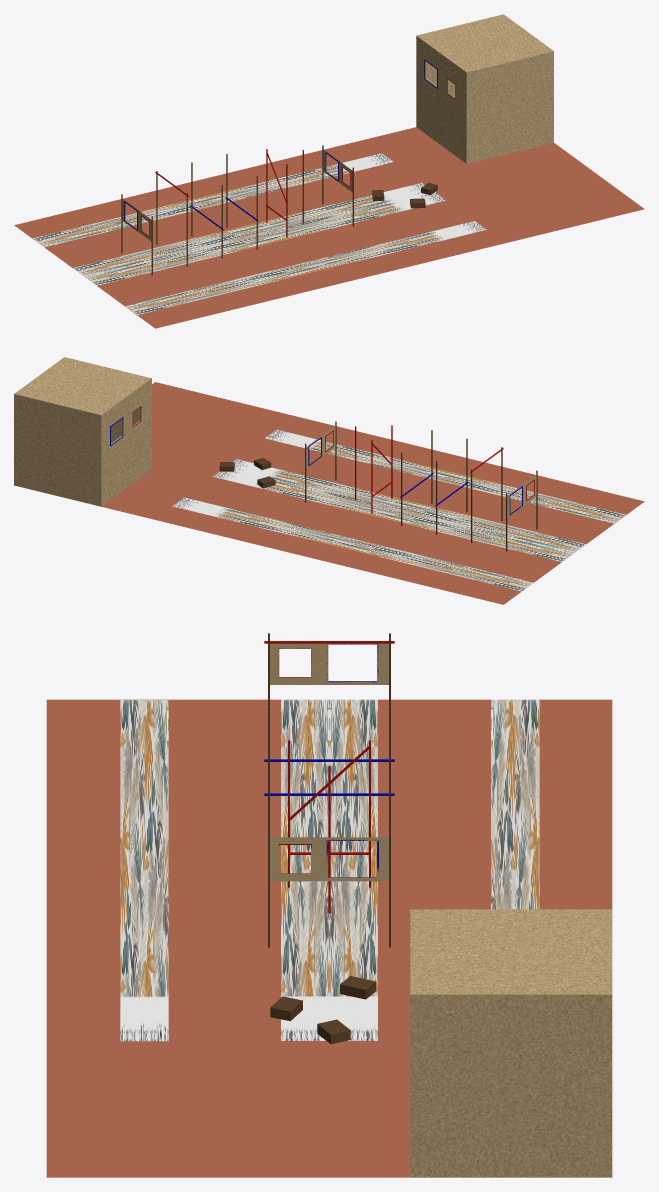
The model's file is all.dae.
3 views of the same model, one above another, from view 1: azimuth 30°, elevation 25°; view 2: azimuth 150°, elevation 25°; view 3: azimuth 270°, elevation 25° (orthographic). The views are drawn at different scales.
Visible parts, largest first — view 1: carpete, caixa, wallpaper_right, wallpaper_center_right, wallpaper_center_left, wallpaper_left, janelas, janelas.001, canos; view 2: carpete, caixa, wallpaper_left, wallpaper_center_right, wallpaper_center_left, wallpaper_right, janelas, janelas.001, canos; view 3: carpete, caixa, wallpaper_right, wallpaper_center_left, wallpaper_center_right, wallpaper_left, janelas.001, janelas, canos.
Part boxes in pixels (x1,y1,x2,y2): carpete: (14,127,644,328); caixa: (416,14,553,163); wallpaper_right: (125,221,486,314); wallpaper_center_right: (85,192,445,285); wallpaper_center_left: (73,183,424,276); wallpaper_left: (32,153,393,247); janelas: (121,194,152,275); janelas.001: (322,145,353,226); canos: (266,149,303,237); carpete: (101,382,644,604); caixa: (14,357,151,506); wallpaper_left: (172,497,533,591); wallpaper_center_right: (233,459,585,552); wallpaper_center_left: (213,470,573,561); wallpaper_right: (265,429,625,523); janelas: (506,470,537,551); janelas.001: (305,421,336,502); canos: (355,425,392,513); carpete: (46,699,612,1177); caixa: (410,909,612,1177); wallpaper_right: (120,700,168,1041); wallpaper_center_left: (329,699,377,1040); wallpaper_center_right: (281,699,329,1040); wallpaper_left: (491,699,539,909); janelas.001: (268,829,390,947); janelas: (268,633,390,684); canos: (288,740,370,913).
Bounding box in the file's own units: 14 × 7 × 2.51.
6 materials, 2 textured.
